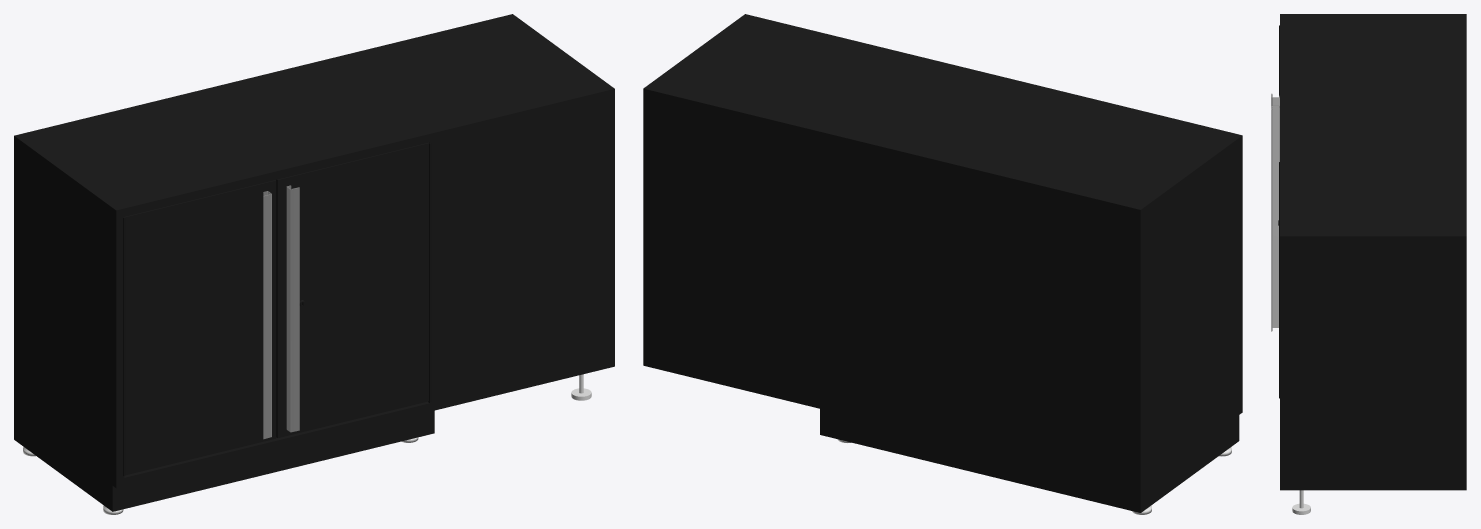
Rendered from door2Base62.glb.
3 renders of one model, left to right at view 1: azimuth 30°, elevation 25°; view 2: azimuth 150°, elevation 25°; view 3: azimuth 270°, elevation 25°, orthographic. The views are drawn at different scales.
Parts seen in each view (by area): view 1: shellFp, doors, handlesFp, hinges; view 2: shellFp; view 3: shellFp, handlesFp, hinges, baseFeet.
Part boxes in pixels (left/top/right/bottom): shellFp: left=14, top=14, right=614, bottom=511; doors: left=123, top=142, right=430, bottom=475; handlesFp: left=263, top=185, right=299, bottom=439; hinges: left=123, top=143, right=431, bottom=476; shellFp: left=643, top=14, right=1242, bottom=512; shellFp: left=1280, top=14, right=1466, bottom=490; handlesFp: left=1271, top=93, right=1279, bottom=331; hinges: left=1279, top=26, right=1279, bottom=398; baseFeet: left=1292, top=490, right=1310, bottom=514.
Bounding box in the file's own units: 1.57 × 0.9389 × 0.5842.
Materials: 3 (1 with a texture image).
